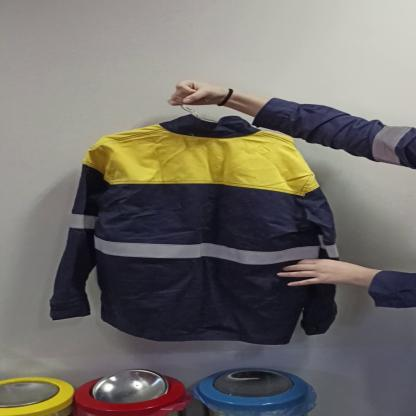C_eletrica: (48, 114, 347, 348)
